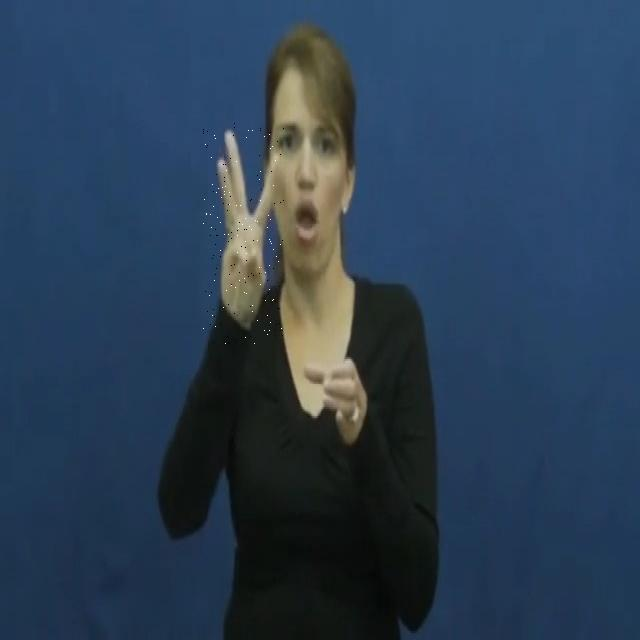straw: (203, 122, 284, 344)
